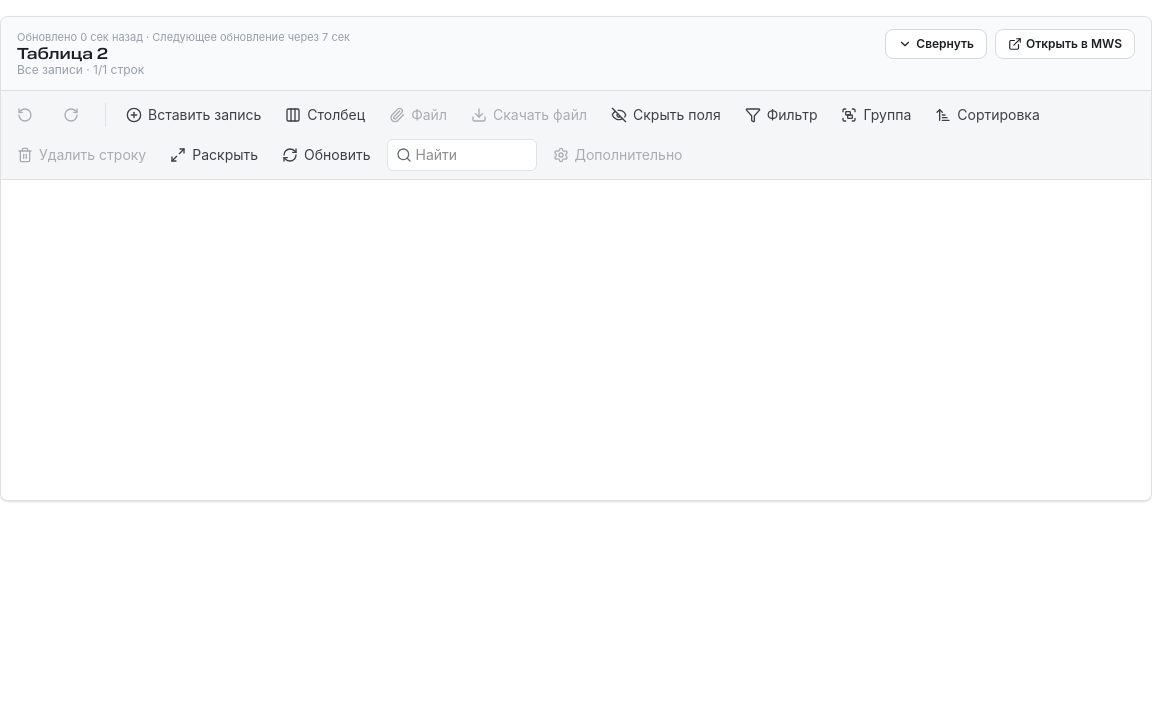
Test: MwsTableEmbedComponent › opens the filter modal from the toolbar
Click the button "Фильтр": (781, 114) [737, 98, 826, 130]
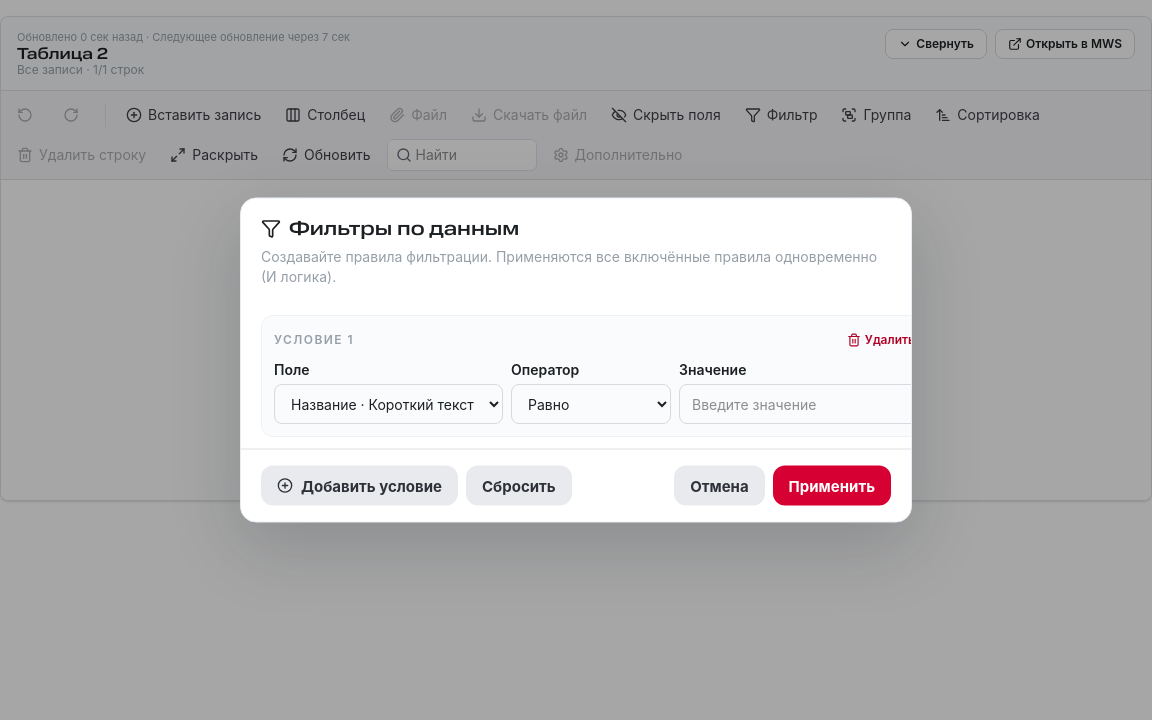
Expected: the dialog "Фильтры по данным" is shown, [240, 198, 912, 522]
